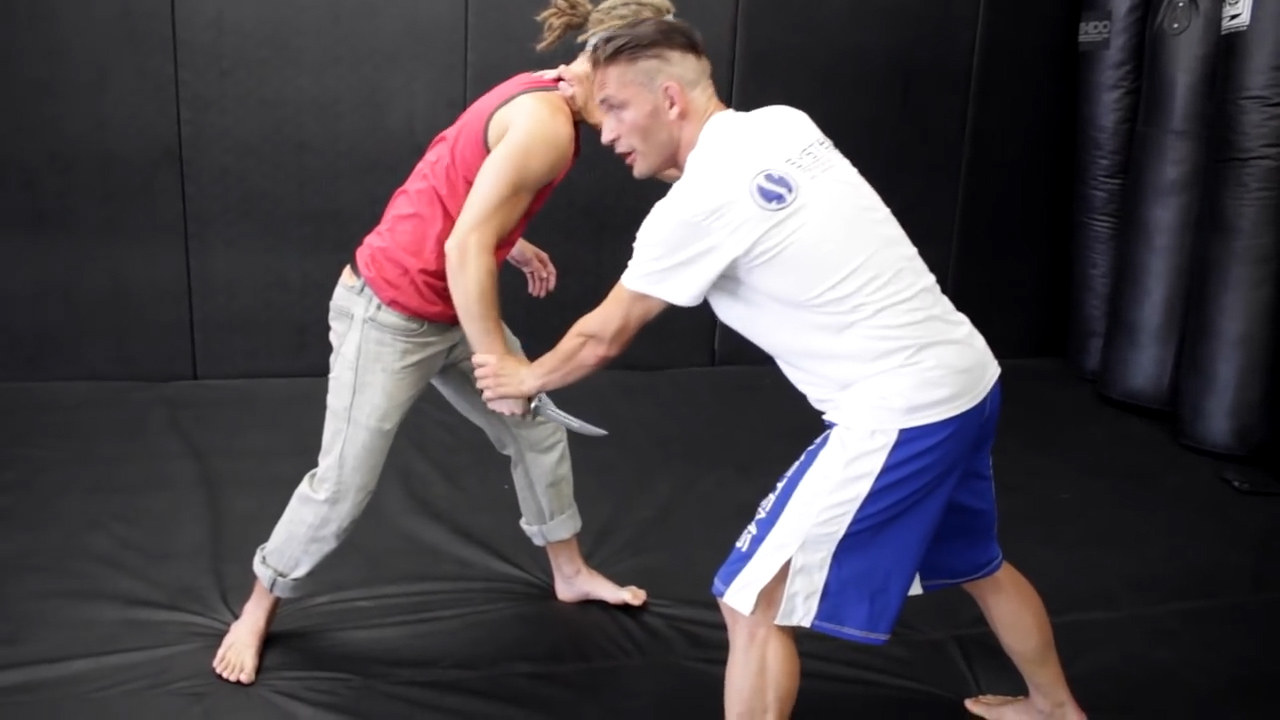knife: (470, 384, 618, 448)
